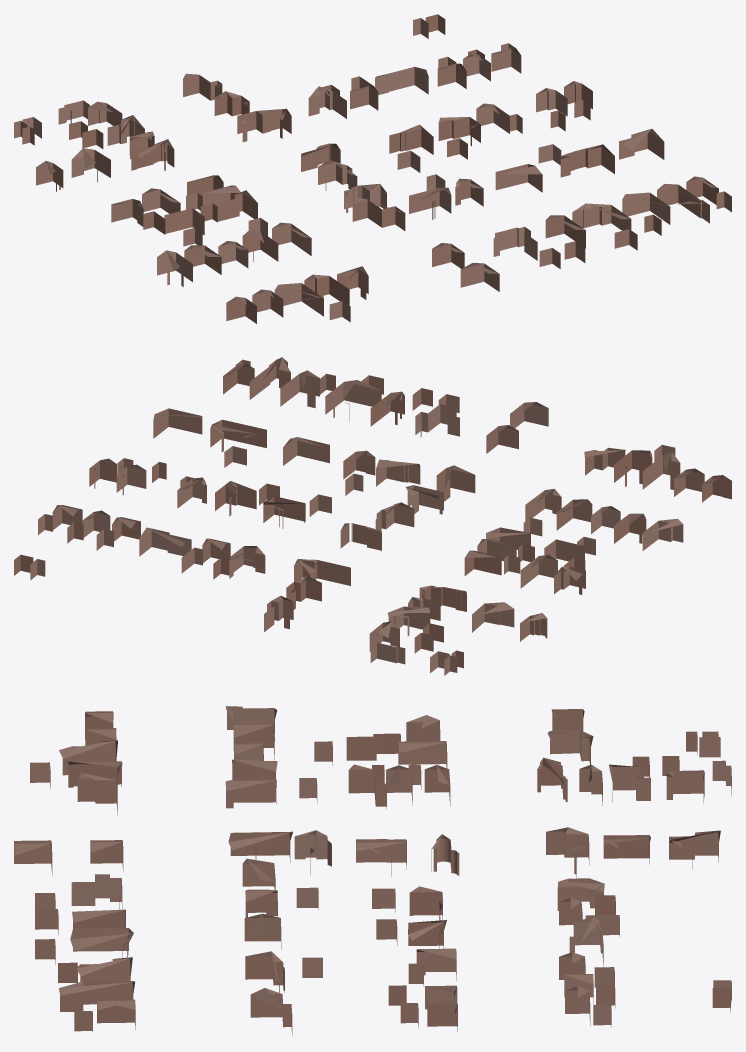
The model's file is c_1645_17825_buildings_residential.glb.
3 views of the same model, one above another, from view 1: azimuth 30°, elevation 25°; view 2: azimuth 150°, elevation 25°; view 3: azimuth 270°, elevation 25° (orthographic). The views are drawn at different scales.
Parts seen in each view (by area): view 1: geometry_0; view 2: geometry_0; view 3: geometry_0.
Part boxes in pixels (bbox=[...]): geometry_0: bbox=[14, 14, 731, 323]; geometry_0: bbox=[14, 357, 731, 675]; geometry_0: bbox=[14, 706, 731, 1035].
Bounding box in the file's own units: 263 × 10.94 × 258.
